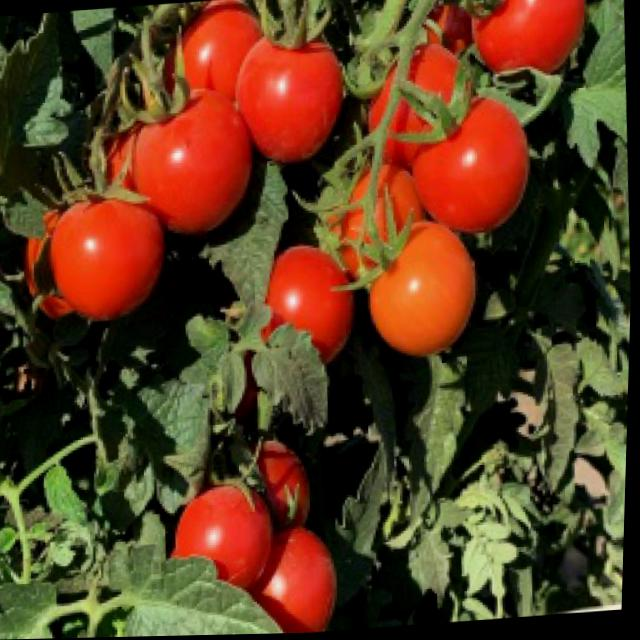tomato: (107, 88, 264, 243), (22, 194, 173, 329), (406, 96, 537, 242), (364, 220, 488, 365), (231, 34, 352, 169), (262, 244, 364, 370), (170, 481, 282, 594), (249, 527, 347, 635), (468, 0, 592, 85), (178, 0, 268, 105), (256, 440, 321, 541)
